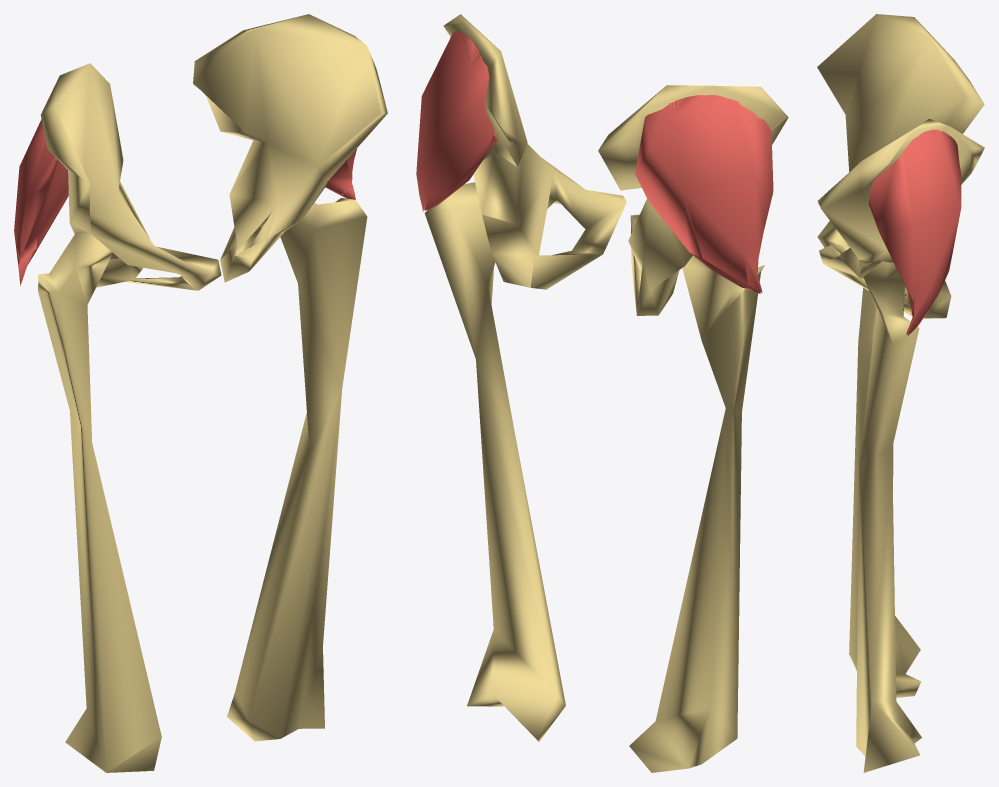
File: hip-pelvis.glb
The picture shows the model from 3 angles, left to right: view 1: azimuth 30°, elevation 25°; view 2: azimuth 150°, elevation 25°; view 3: azimuth 270°, elevation 25°; orthographic projection. The views are drawn at different scales.
Visible parts, largest first — view 1: hip-pelvis:femur:isa:FJ3259, hip-pelvis:hip-bone:isa:FJ3288, hip-pelvis:femur:isa:FJ3365, hip-pelvis:hip-bone:isa:FJ3152, hip-pelvis:gluteus-medius:isa:FJ1419, hip-pelvis:gluteus-medius:isa:FJ1419M; view 2: hip-pelvis:femur:isa:FJ3365, hip-pelvis:femur:isa:FJ3259, hip-pelvis:gluteus-medius:isa:FJ1419, hip-pelvis:hip-bone:isa:FJ3288, hip-pelvis:gluteus-medius:isa:FJ1419M, hip-pelvis:hip-bone:isa:FJ3152; view 3: hip-pelvis:femur:isa:FJ3259, hip-pelvis:hip-bone:isa:FJ3152, hip-pelvis:gluteus-medius:isa:FJ1419M, hip-pelvis:hip-bone:isa:FJ3288, hip-pelvis:femur:isa:FJ3365.
Part boxes in pixels (<box>): hip-pelvis:femur:isa:FJ3259: <box>227,198,367,741</box>; hip-pelvis:hip-bone:isa:FJ3288: <box>193,14,387,282</box>; hip-pelvis:femur:isa:FJ3365: <box>38,232,161,772</box>; hip-pelvis:hip-bone:isa:FJ3152: <box>40,63,221,290</box>; hip-pelvis:gluteus-medius:isa:FJ1419: <box>14,119,68,286</box>; hip-pelvis:gluteus-medius:isa:FJ1419M: <box>325,149,356,199</box>; hip-pelvis:femur:isa:FJ3365: <box>629,255,764,772</box>; hip-pelvis:femur:isa:FJ3259: <box>424,182,565,741</box>; hip-pelvis:gluteus-medius:isa:FJ1419: <box>635,94,773,293</box>; hip-pelvis:hip-bone:isa:FJ3288: <box>443,14,626,289</box>; hip-pelvis:gluteus-medius:isa:FJ1419M: <box>416,32,497,211</box>; hip-pelvis:hip-bone:isa:FJ3152: <box>598,85,788,315</box>; hip-pelvis:femur:isa:FJ3259: <box>856,261,921,772</box>; hip-pelvis:hip-bone:isa:FJ3152: <box>817,14,984,253</box>; hip-pelvis:gluteus-medius:isa:FJ1419M: <box>868,129,961,335</box>; hip-pelvis:hip-bone:isa:FJ3288: <box>817,118,984,318</box>; hip-pelvis:femur:isa:FJ3365: <box>849,287,921,697</box>.
Bounding box in the file's own units: 0.2993 × 0.5883 × 0.1359.
